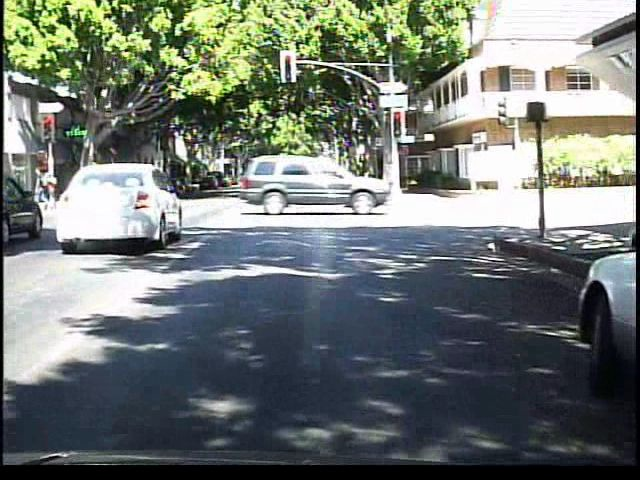person: (34, 164, 65, 209)
